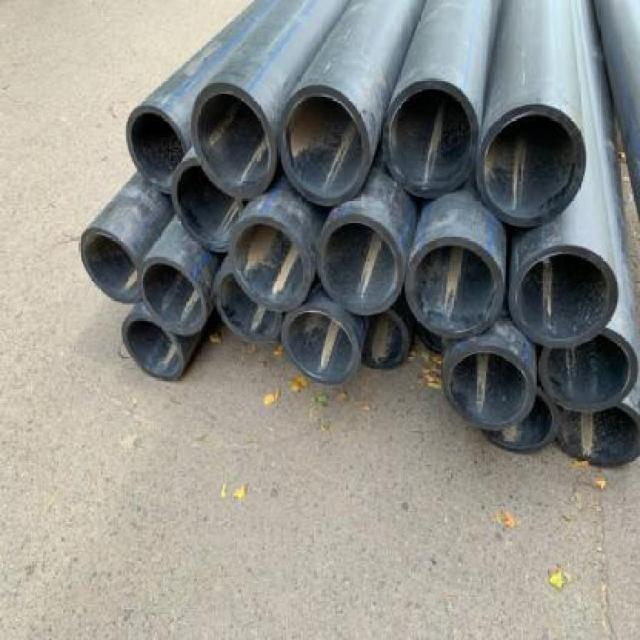pipe: (476, 103, 586, 226), (383, 79, 478, 199), (509, 245, 619, 348), (280, 86, 371, 208), (191, 82, 276, 200), (405, 237, 504, 338), (317, 214, 402, 316), (539, 328, 640, 412), (443, 345, 536, 430), (231, 216, 311, 313), (172, 158, 244, 254), (283, 306, 359, 384), (126, 106, 188, 194), (139, 257, 208, 334), (557, 405, 640, 468), (212, 271, 280, 344), (483, 388, 558, 452), (80, 228, 142, 304), (121, 314, 184, 382), (358, 309, 410, 369)
